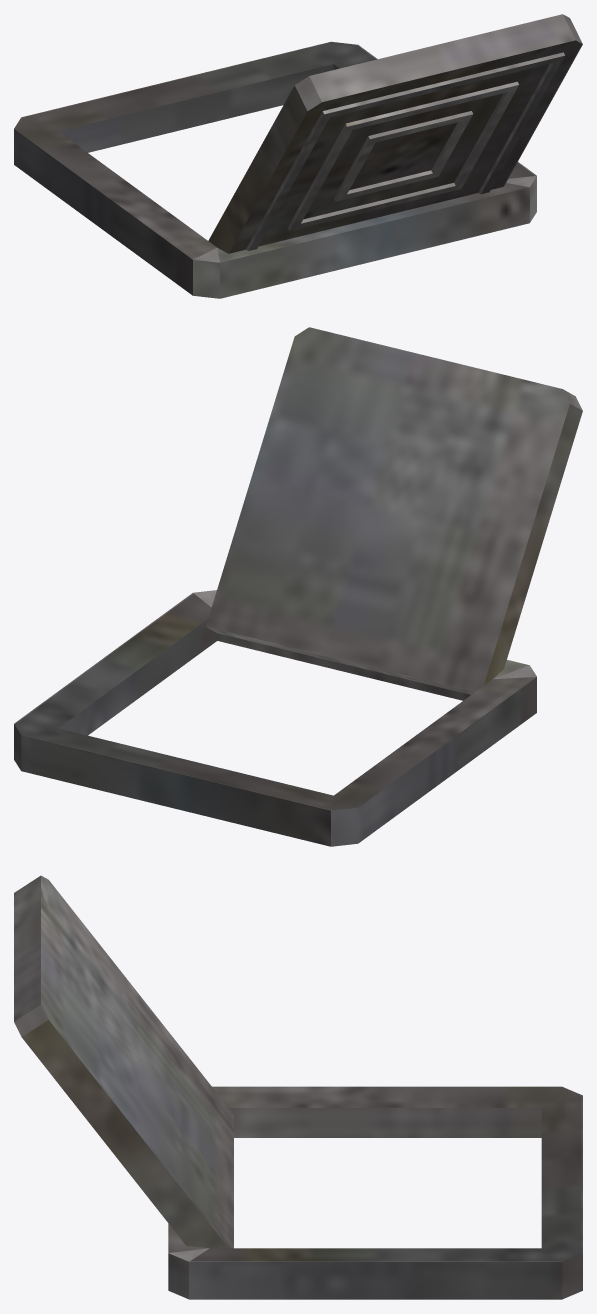
The model's file is luke.fbx.
The picture shows the model from 3 angles, top to bottom: view 1: azimuth 30°, elevation 25°; view 2: azimuth 150°, elevation 25°; view 3: azimuth 270°, elevation 25°; orthographic projection. The views are drawn at different scales.
Parts seen in each view (by area): view 1: Cube; view 2: Cube; view 3: Cube.
Part boxes in pixels (box(x1,y1,x2,y2)): Cube: box(14, 14, 582, 298); Cube: box(14, 327, 582, 846); Cube: box(14, 875, 582, 1299).
Size of the model in its own units: 110 by 57.89 by 80.
Materials: 1 (1 with a texture image).
